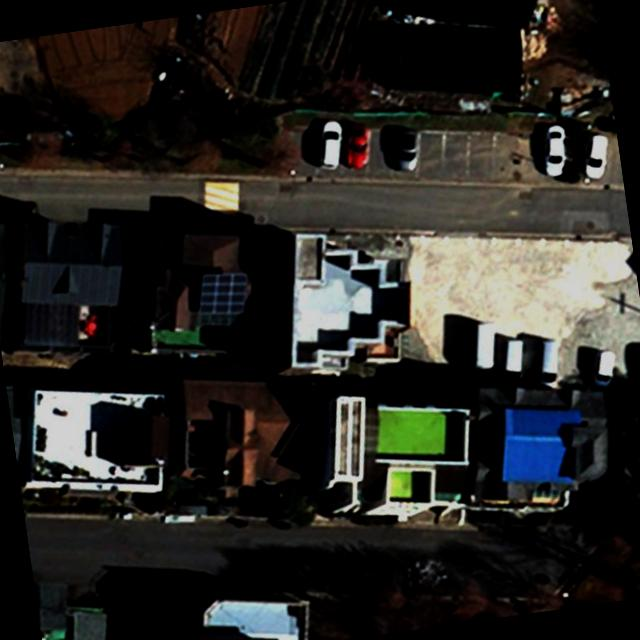solar: (191, 265, 257, 324)
